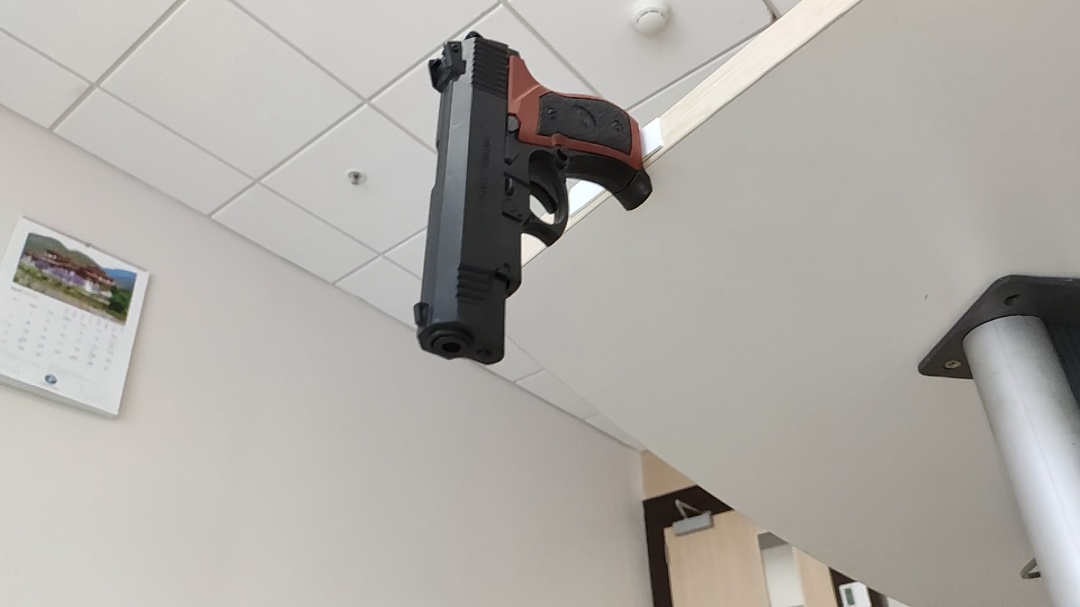gun: (179, 161, 673, 446)
